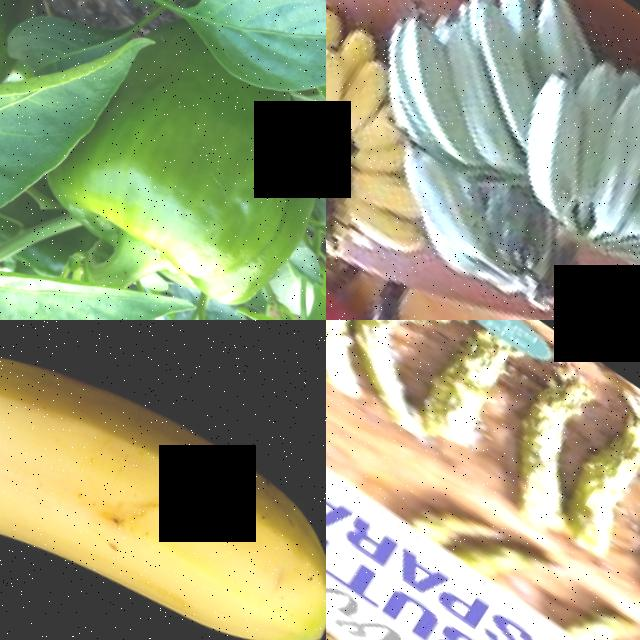asparagus: (480, 350, 613, 511), (550, 398, 640, 559), (418, 320, 527, 443), (338, 320, 468, 415)
banana: (0, 320, 326, 640), (356, 2, 523, 163), (479, 44, 633, 216), (380, 132, 527, 265), (555, 63, 640, 235), (331, 181, 433, 264), (591, 71, 640, 236), (326, 42, 404, 144), (514, 0, 609, 78), (357, 159, 429, 217), (353, 98, 402, 158), (326, 54, 364, 127), (362, 136, 406, 174)
bell pepper: (23, 0, 326, 320)
